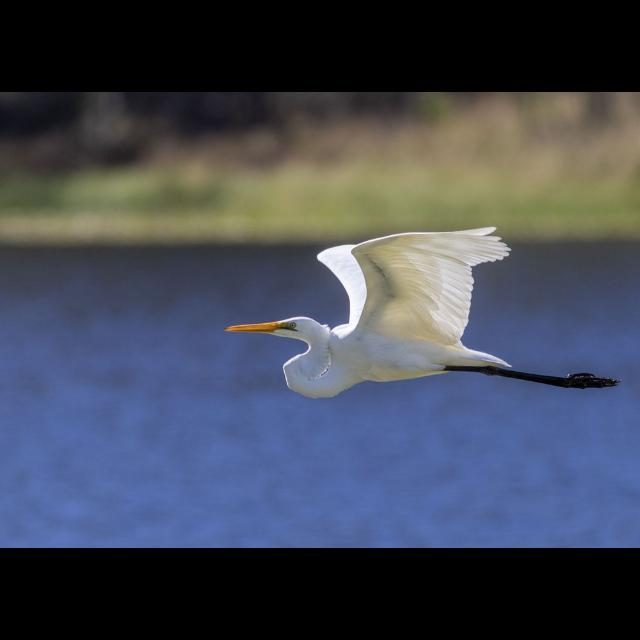egret: (221, 226, 625, 400)
